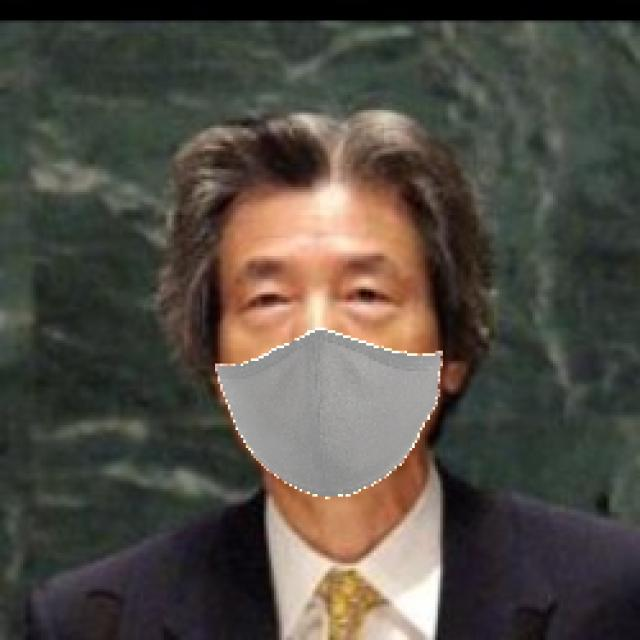mask: (188, 309, 491, 544)
